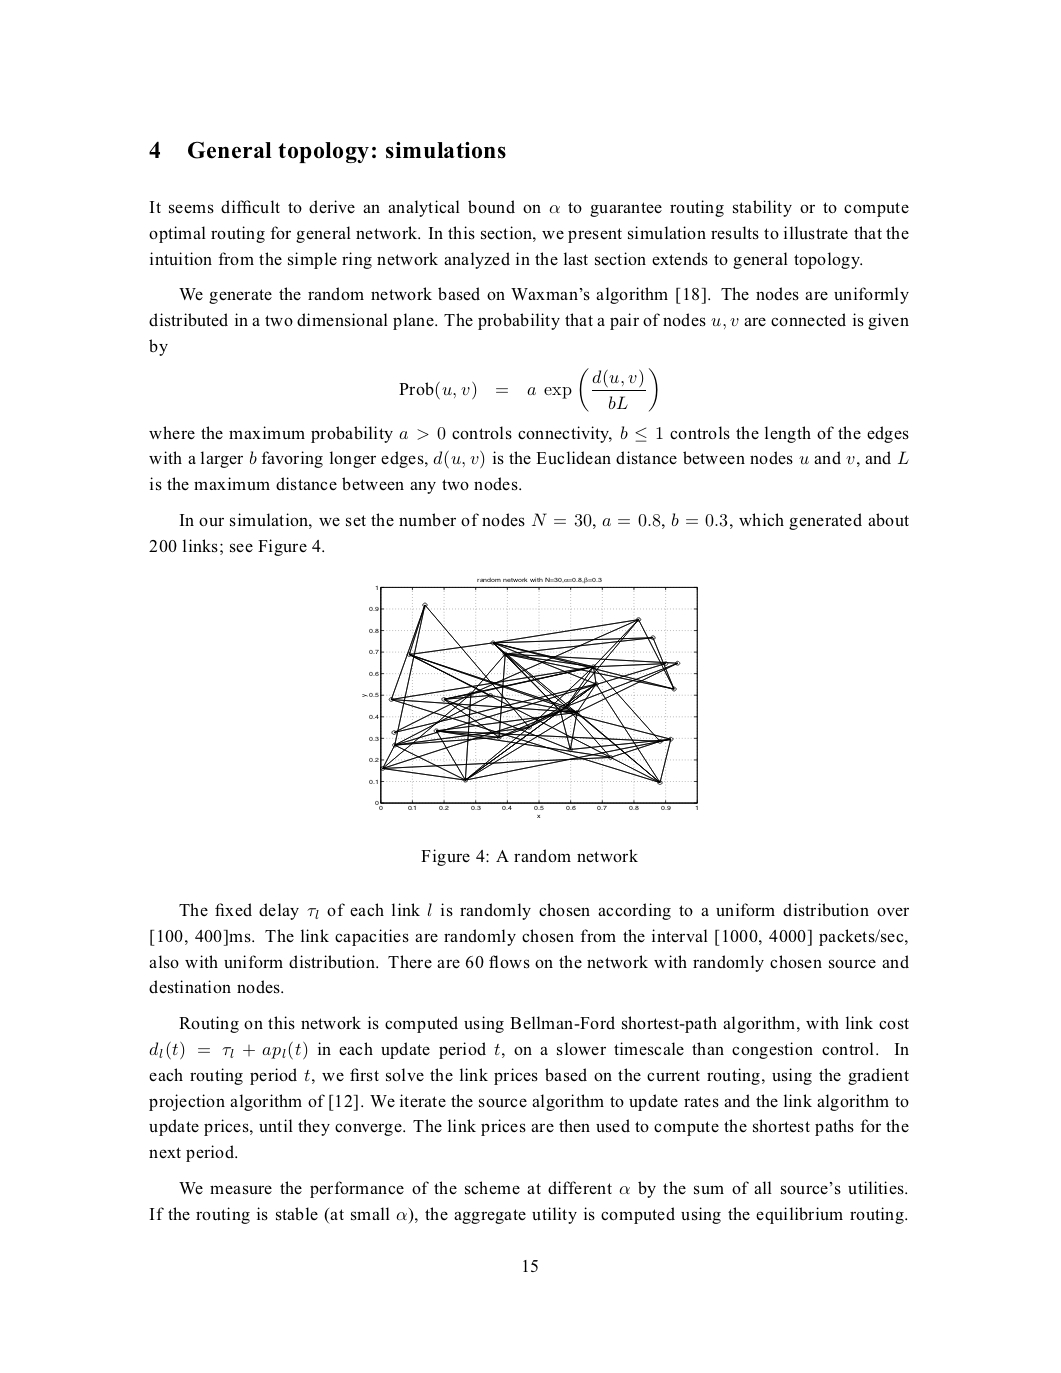figure: (362, 576, 697, 810)
formula: (399, 367, 658, 412)
